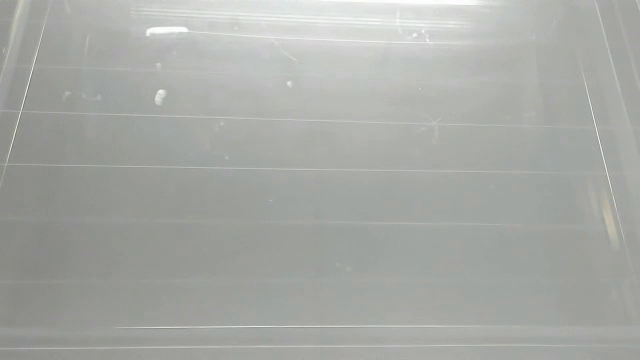alpha: (144, 21, 190, 40), (152, 87, 169, 109)
